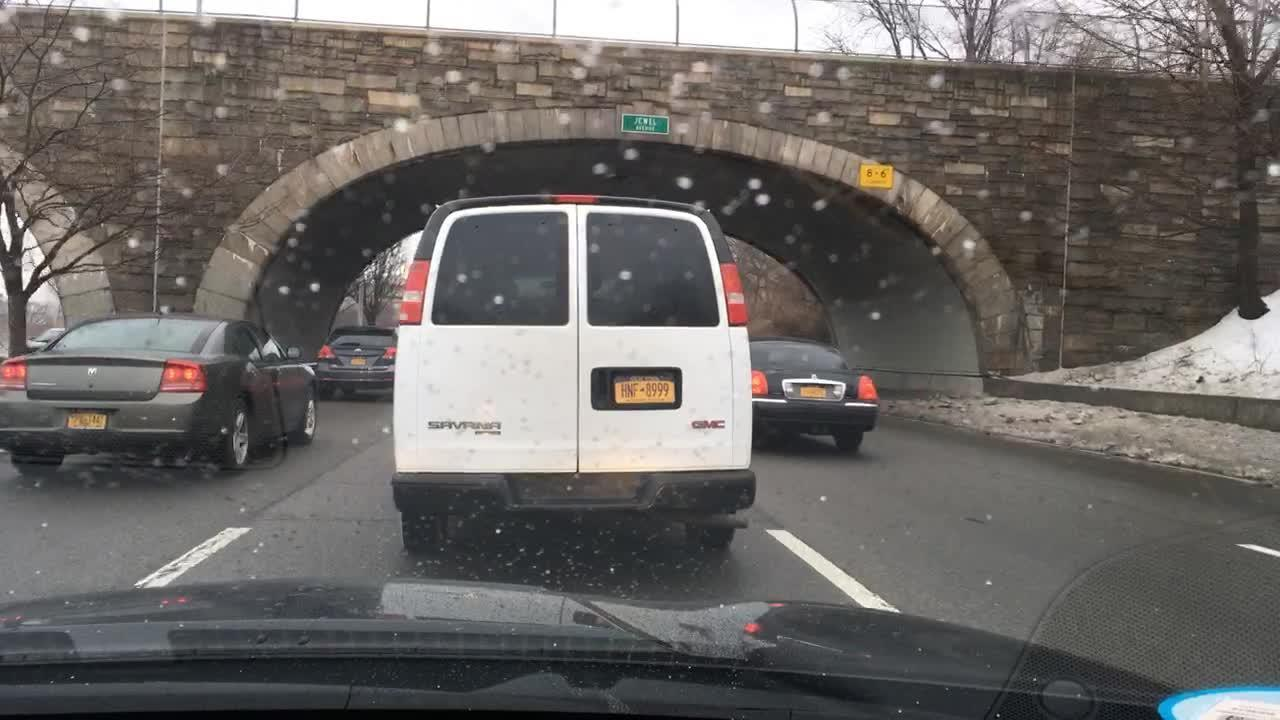GMC: (688, 415, 729, 435)
